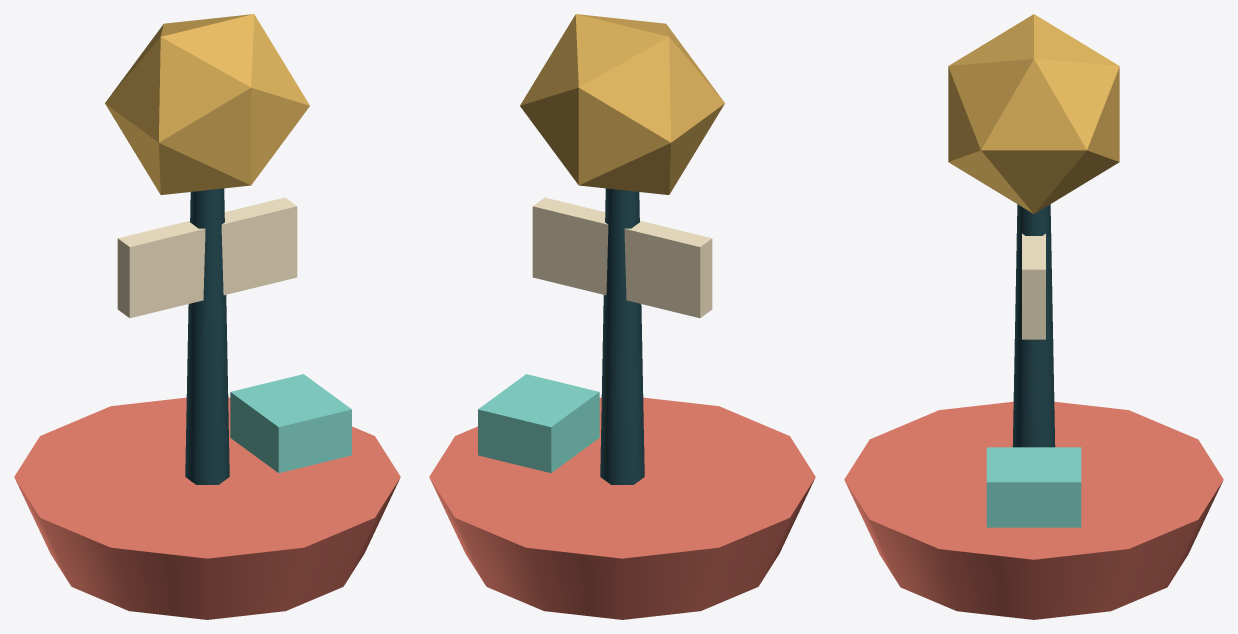
The model's file is survey-buoy.glb.
3 renders of one model, left to right at view 1: azimuth 30°, elevation 25°; view 2: azimuth 150°, elevation 25°; view 3: azimuth 270°, elevation 25°, orthographic.
Visible parts, largest first — view 1: buoy-float, survey-signal, research-plate, buoy-mast, sample-container; view 2: buoy-float, survey-signal, research-plate, buoy-mast, sample-container; view 3: buoy-float, survey-signal, sample-container, buoy-mast, research-plate.
Part boxes in pixels (x1,y1,x2,y2): buoy-float: (14,397,400,619); survey-signal: (105,14,309,194); research-plate: (117,197,297,318); buoy-mast: (185,188,229,484); sample-container: (230,374,351,472); buoy-float: (429,397,815,619); survey-signal: (520,14,724,194); research-plate: (532,197,712,318); buoy-mast: (600,188,644,484); sample-container: (478,374,599,472); buoy-float: (844,401,1223,619); survey-signal: (948,14,1119,213); sample-container: (986,447,1081,527); buoy-mast: (1012,204,1055,447); research-plate: (1022,233,1045,339).
Bounding box in the file's own units: 3.2 × 4.82 × 3.2.
